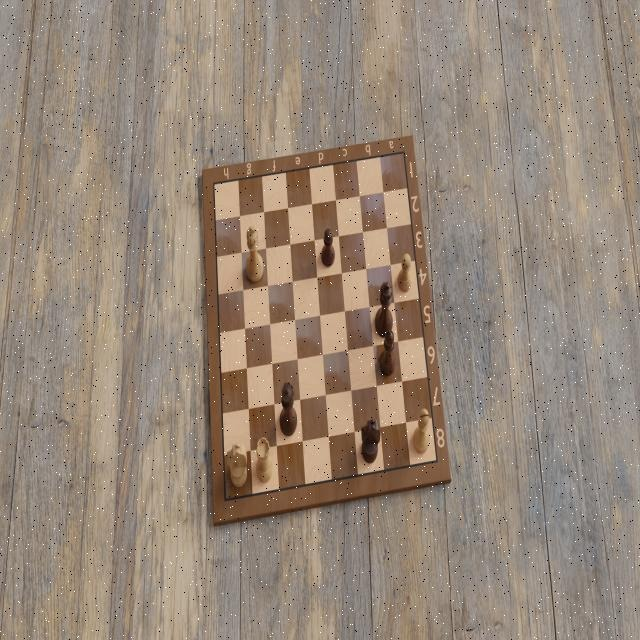black-bishop: (378, 328, 397, 380)
black-king: (373, 278, 395, 342)
black-knight: (360, 417, 382, 467)
black-pawn: (318, 226, 337, 269)
black-queen: (278, 382, 298, 440)
white-bishop: (411, 404, 433, 456)
white-king: (243, 221, 266, 286)
white-knight: (226, 440, 250, 490)
white-pawn: (397, 251, 415, 293)
white-rook: (254, 436, 274, 484)
